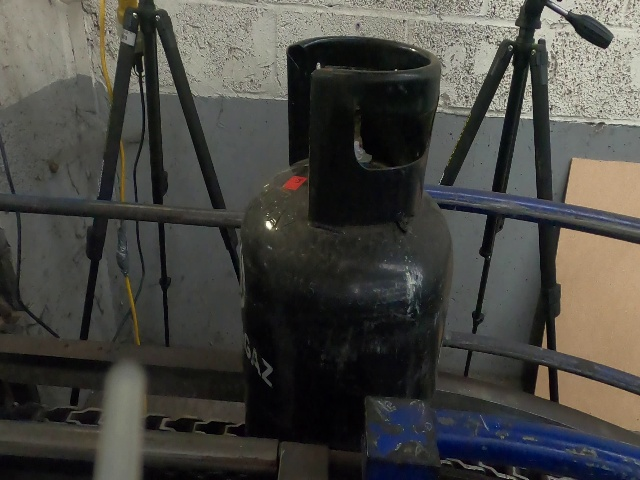gas_bottle: (0, 0, 640, 479)
